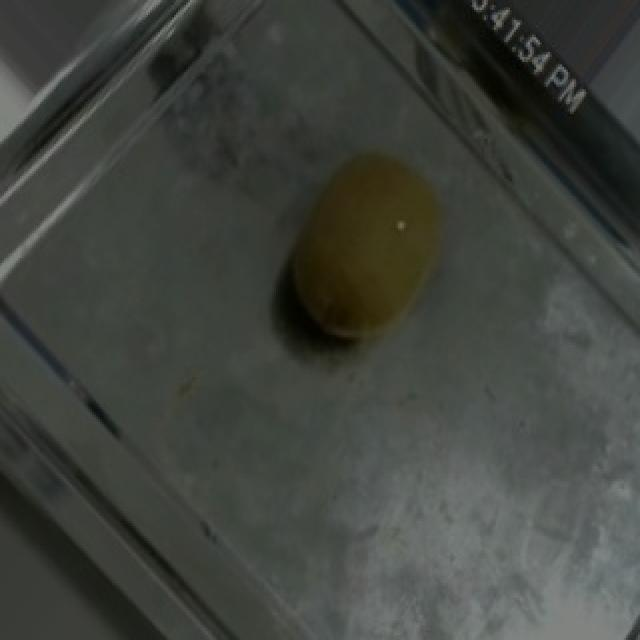Fruit: (240, 119, 494, 380)
